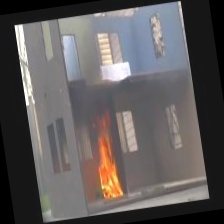fire: (83, 108, 132, 201)
